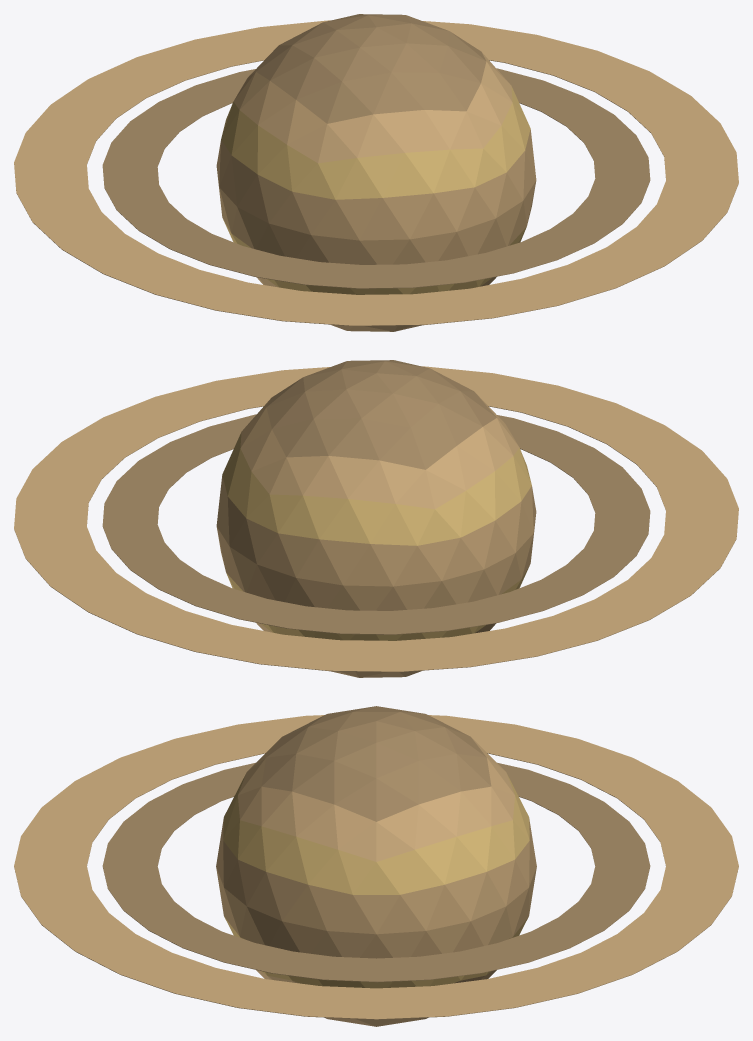
File: saturn.glb
3 renders of one model, top to bottom at view 1: azimuth 30°, elevation 25°; view 2: azimuth 150°, elevation 25°; view 3: azimuth 270°, elevation 25°, orthographic.
Parts seen in each view (by area): view 1: Icosphere; view 2: Icosphere; view 3: Icosphere.
Boxes of the visible parts, box(x1,y1,x2,y2) form: Icosphere: box(14, 14, 738, 331); Icosphere: box(14, 360, 738, 677); Icosphere: box(14, 706, 738, 1026).
Bounding box in the file's own units: 26.31 × 11.65 × 26.31.
